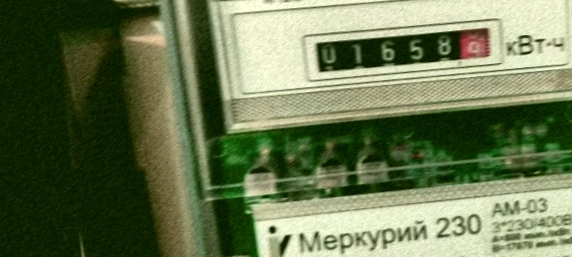0: (319, 44, 338, 67)
1: (349, 42, 365, 68)
5: (406, 38, 425, 64)
6: (377, 40, 398, 66)
8: (434, 35, 453, 59)
9: (464, 40, 482, 63)
screen: (298, 13, 509, 92)
